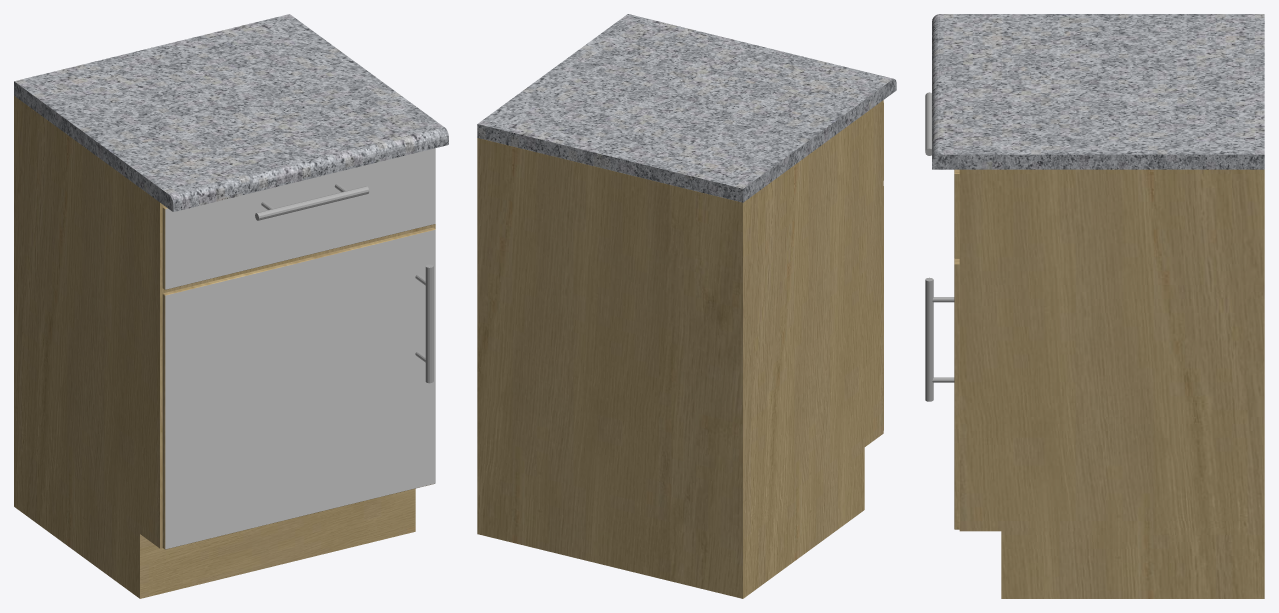
The model's file is lowerCabinet.obj.
The picture shows the model from 3 angles, left to right: view 1: azimuth 30°, elevation 25°; view 2: azimuth 150°, elevation 25°; view 3: azimuth 270°, elevation 25°; orthographic projection. The views are drawn at different scales.
Visible parts, largest first — view 1: GC_100L.004_Cube.016; view 2: GC_100L.004_Cube.016; view 3: GC_100L.004_Cube.016.
Part boxes in pixels (x1,y1,x2,y2): GC_100L.004_Cube.016: (14, 14, 448, 598); GC_100L.004_Cube.016: (477, 14, 896, 598); GC_100L.004_Cube.016: (925, 14, 1264, 598).
Size of the model in its own units: 60 by 88.48 by 61.25.
